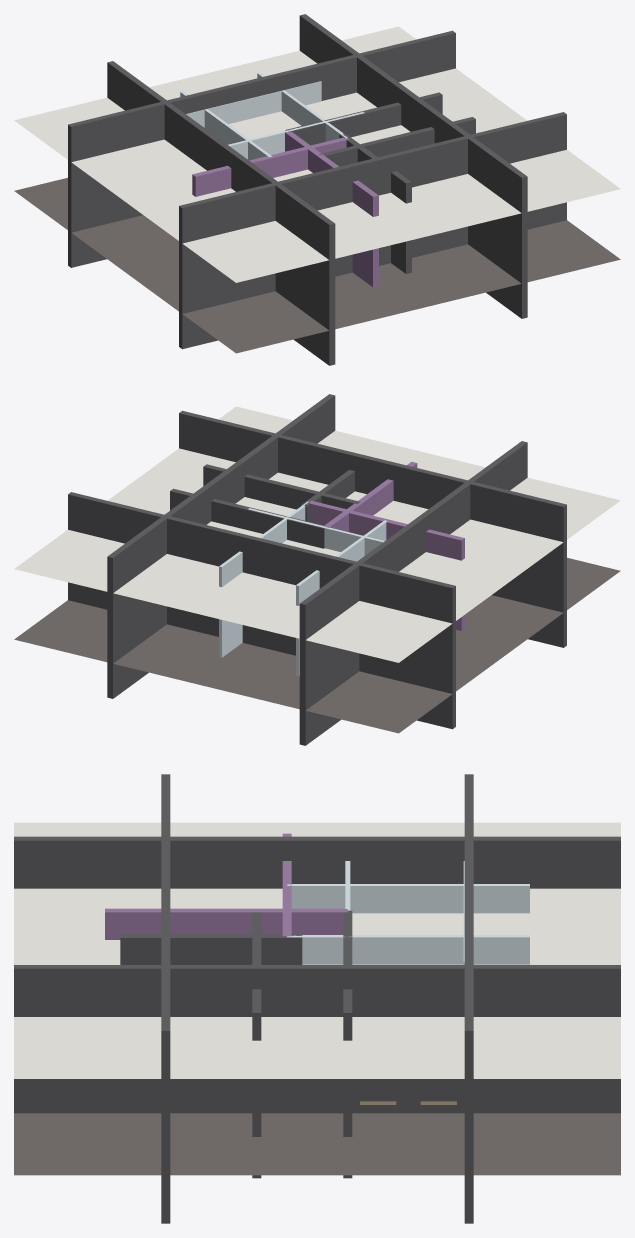
3 views of the same model, one above another, from view 1: azimuth 30°, elevation 25°; view 2: azimuth 150°, elevation 25°; view 3: azimuth 270°, elevation 25° (orthographic). The views are drawn at different scales.
Visible parts, largest first — view 1: Ceiling, Floor, WallSouth, WallNorth, WallWest, WallEast, PodcastPartNorth, ControlPartSouth, PodcastPartEast, GlassBoothNorth, EquipPartNorth, EquipPartWest (+3 smaller); view 2: Ceiling, Floor, WallNorth, WallSouth, WallWest, WallEast, ControlPartSouth, PodcastPartNorth, EquipPartNorth, GlassBoothEast, GlassBoothWest, PodcastPartEast (+2 smaller); view 3: Ceiling, WallEast, Floor, WallWest, GlassBoothWest, GlassBoothEast, PodcastPartEast, EquipPartWest, WallNorth, WallSouth, ControlPartSouth, EquipPartNorth (+1 smaller).
Boxes of the visible parts, x1,y1,x2,y2 form: Ceiling: (14, 26, 620, 282); Floor: (14, 177, 620, 353); WallSouth: (179, 112, 566, 349); WallNorth: (68, 30, 455, 267); WallWest: (107, 61, 335, 365); WallEast: (299, 14, 527, 318); PodcastPartNorth: (192, 137, 348, 196); ControlPartSouth: (285, 92, 442, 145); PodcastPartEast: (285, 131, 378, 287); GlassBoothNorth: (186, 81, 321, 127); EquipPartNorth: (319, 117, 475, 166); EquipPartWest: (339, 133, 411, 273); Ceiling: (14, 406, 620, 662); Floor: (14, 557, 620, 733); WallNorth: (68, 492, 455, 729); WallSouth: (179, 410, 566, 647); WallWest: (299, 441, 527, 745); WallEast: (107, 394, 335, 698); ControlPartSouth: (170, 488, 326, 548); PodcastPartNorth: (309, 500, 464, 630); EquipPartNorth: (203, 464, 360, 509); GlassBoothEast: (219, 501, 308, 657); GlassBoothWest: (296, 520, 387, 676); PodcastPartEast: (324, 461, 417, 531); Ceiling: (14, 822, 620, 1078); WallEast: (14, 965, 620, 1113); Floor: (14, 1113, 620, 1175); WallWest: (14, 836, 620, 888); GlassBoothWest: (287, 884, 529, 913); GlassBoothEast: (287, 935, 529, 964); PodcastPartEast: (105, 908, 347, 939); EquipPartWest: (120, 934, 302, 964); WallNorth: (464, 774, 473, 1223); WallSouth: (161, 774, 170, 1223); ControlPartSouth: (343, 910, 352, 1178); EquipPartNorth: (252, 912, 261, 1178).
Bounding box in the file's own units: 20 × 7 × 20.
